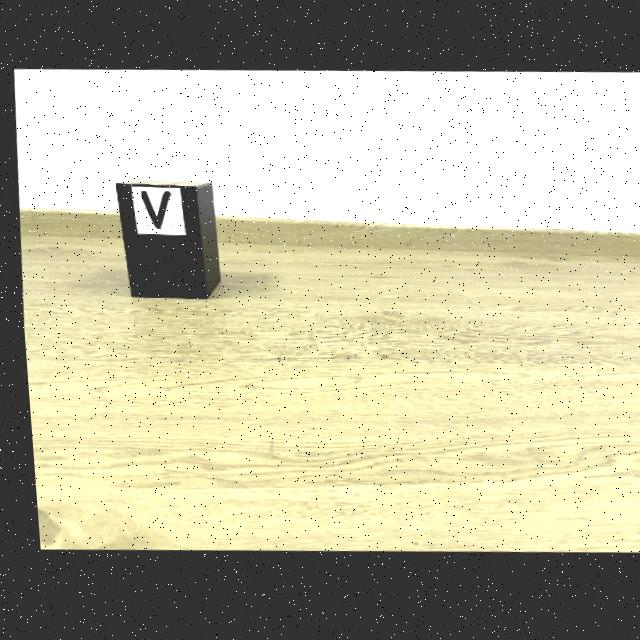V: (138, 192, 168, 228)
